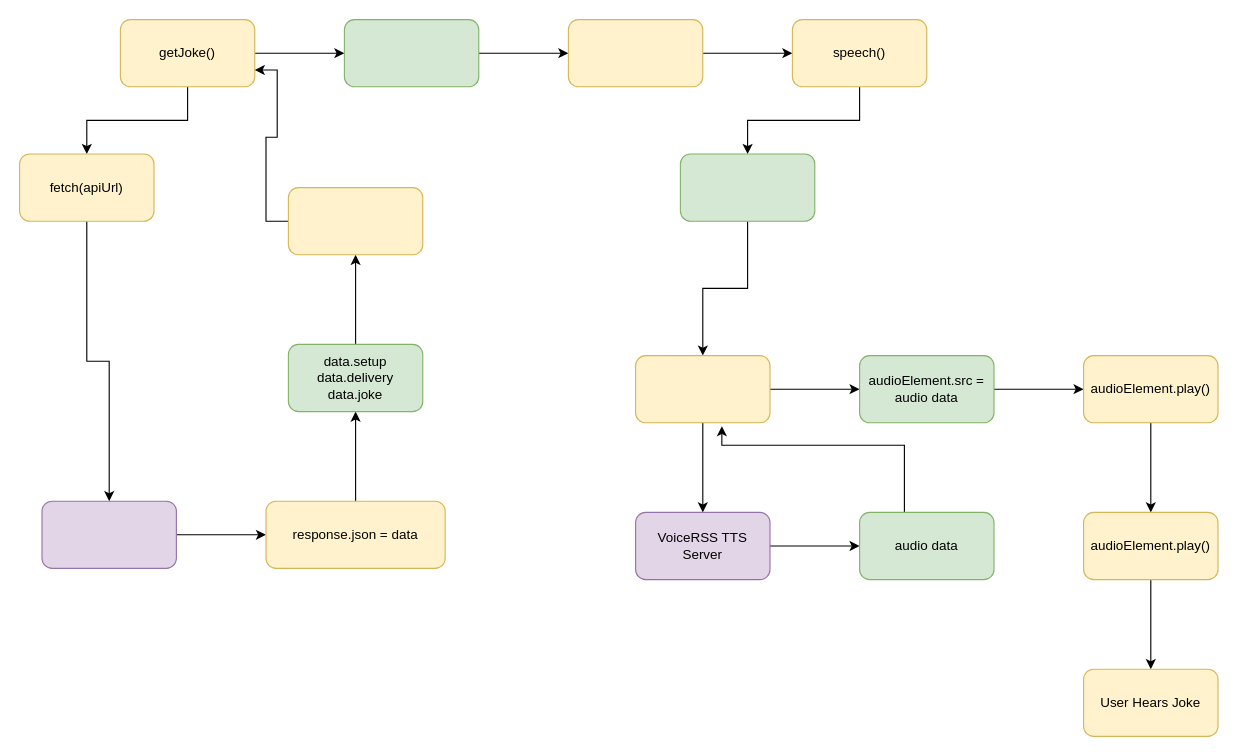
Image size: 1238x756. Some labels were removed from this diagram. Each missing label, with the centre of its shape:
"joke" goes at point (411, 52).
"JokesAPI Server" goes at point (108, 534).
"populate joke variable from two part or one part jokes" goes at point (355, 220).
"tellMe(joke)" goes at point (635, 52).
"voiceRSS API Parameters key:<API_Key> src: joke" goes at point (747, 187).
"VoiceRSS SDK" goes at point (702, 388).
